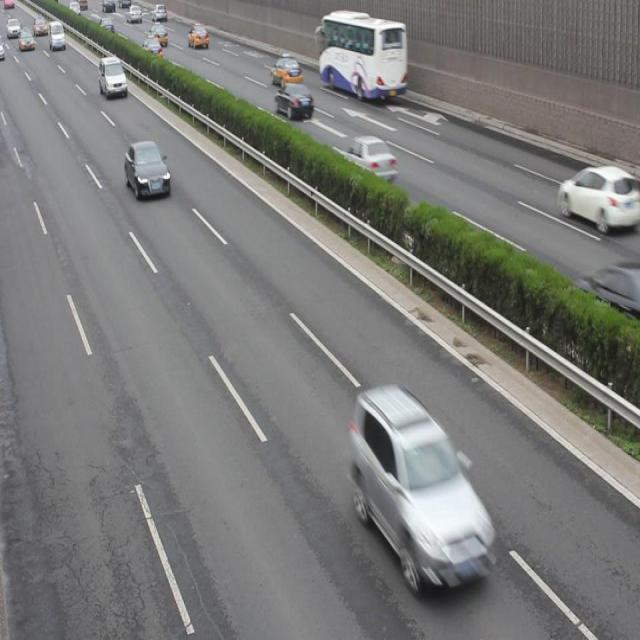car: (348, 385, 491, 588), (557, 167, 640, 232), (571, 260, 640, 336), (124, 142, 170, 201), (345, 134, 395, 179), (274, 82, 313, 119), (268, 54, 300, 92), (188, 24, 209, 52), (140, 33, 162, 59), (146, 23, 168, 46)
truck: (98, 58, 128, 98)
van: (313, 10, 407, 98)
